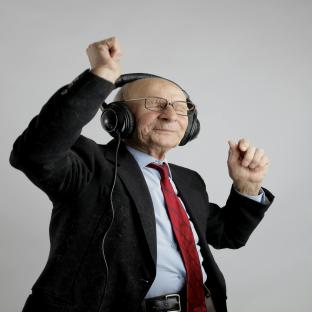Human: (10, 38, 274, 312)
